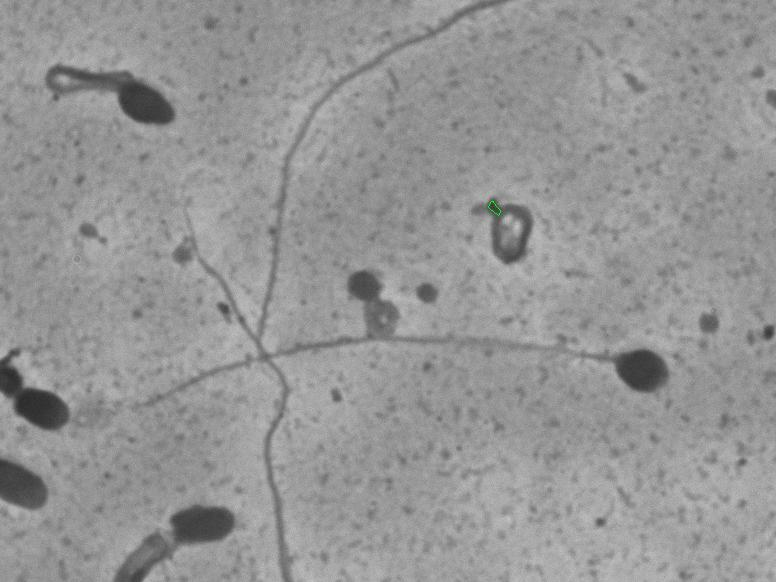Abnormal: (291, 284, 683, 450), (29, 26, 209, 157)
